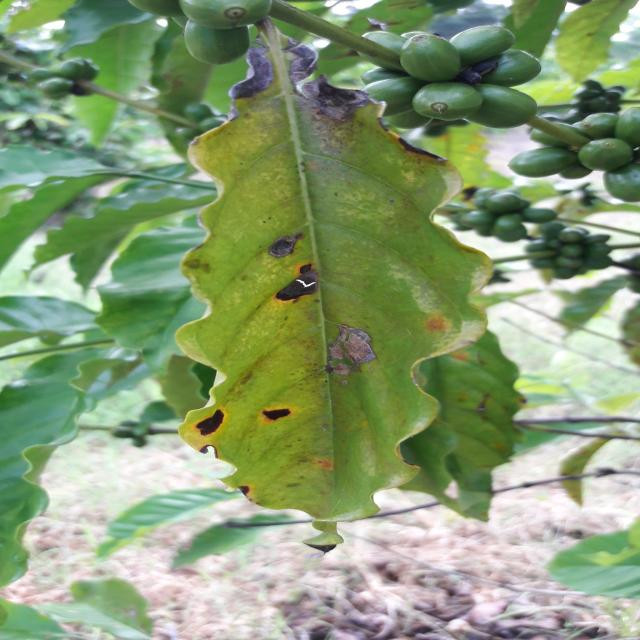Enfermedad-Roya: (179, 33, 485, 551), (183, 36, 488, 555)
